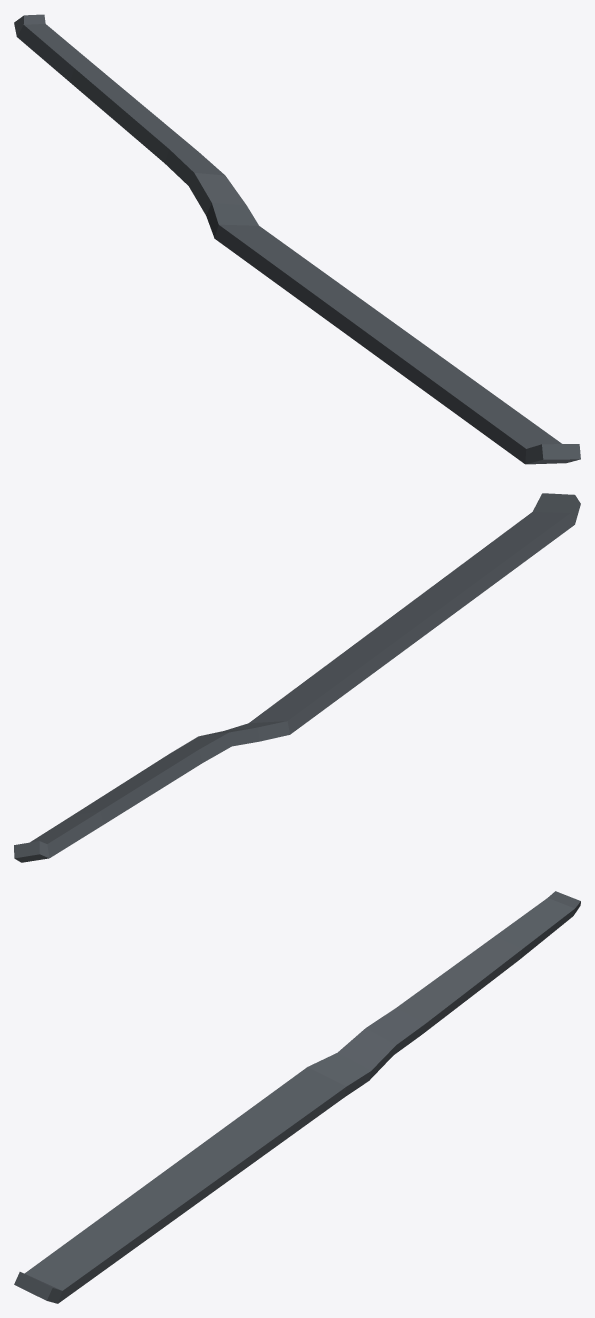
The model's file is Mothership_02_Lining_Left_Red.fbx.
The picture shows the model from 3 angles, top to bottom: view 1: azimuth 30°, elevation 25°; view 2: azimuth 150°, elevation 25°; view 3: azimuth 330°, elevation 25°; orthographic projection. The views are drawn at different scales.
Visible parts, largest first — view 1: Mothership_02_Lining_Left_Red; view 2: Mothership_02_Lining_Left_Red; view 3: Mothership_02_Lining_Left_Red.
Boxes of the visible parts, left/top/right/bottom form: Mothership_02_Lining_Left_Red: left=14, top=14, right=580, bottom=464; Mothership_02_Lining_Left_Red: left=14, top=493, right=580, bottom=862; Mothership_02_Lining_Left_Red: left=14, top=891, right=580, bottom=1303.
Size of the model in its own units: 249 by 205 by 3737.
1 material, 1 textured.
